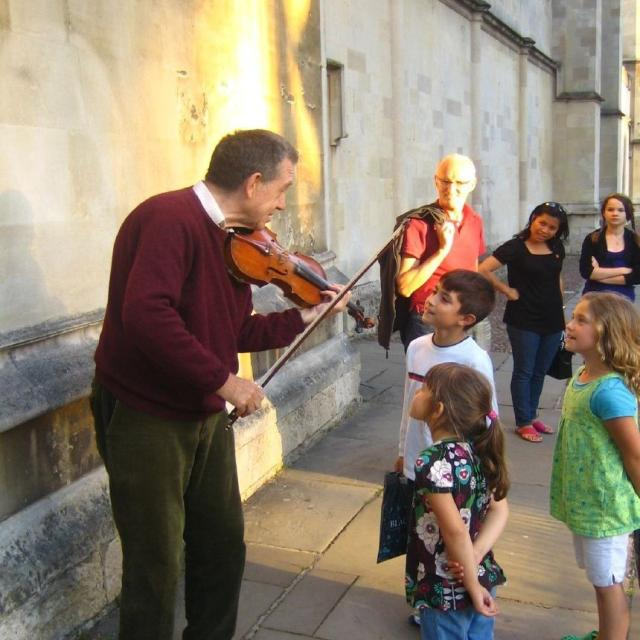violin: (224, 218, 378, 333)
